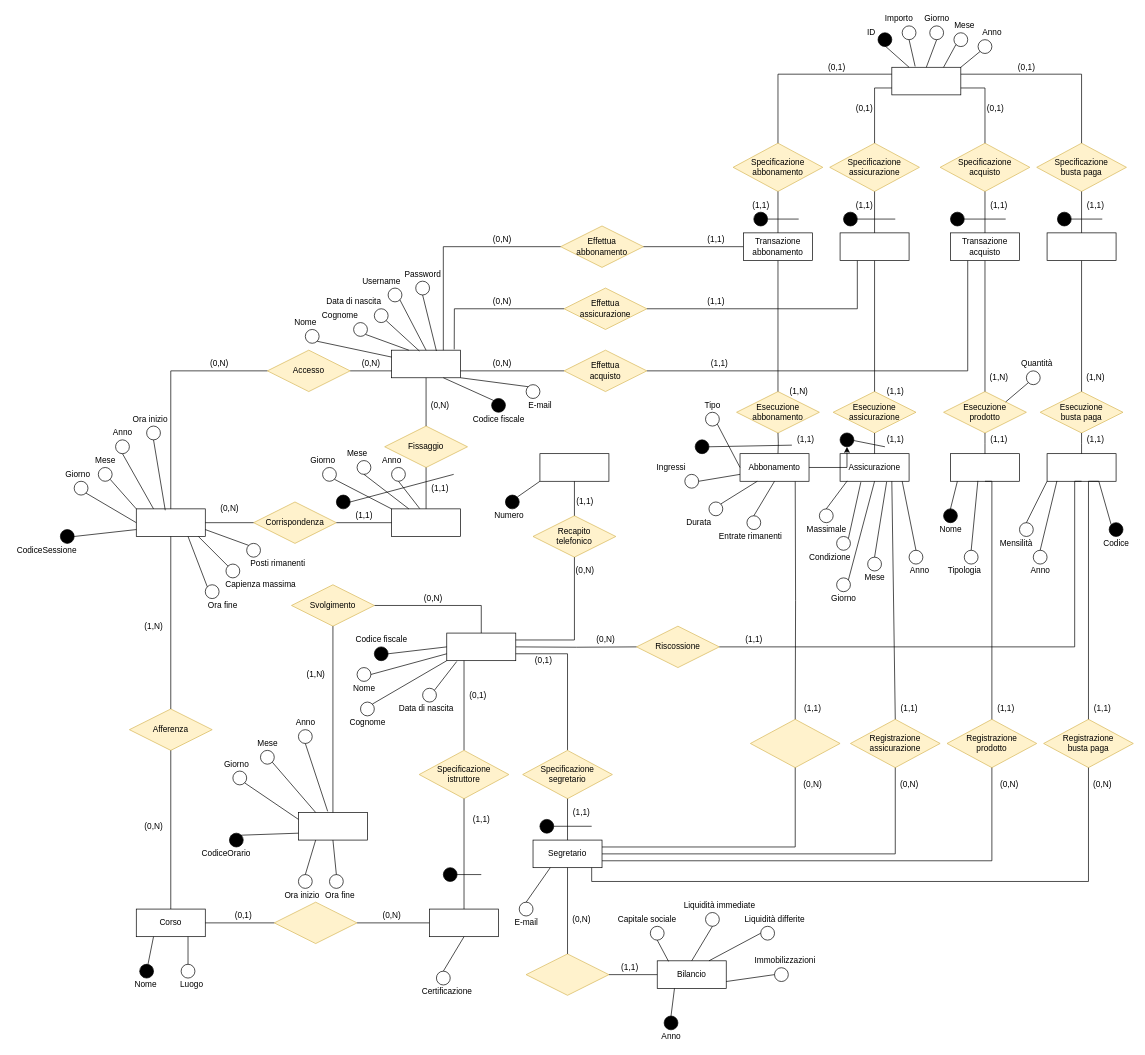
Some shapes in this 1145 by 1055 pixel diagram are drawn without their labels. Each missing label, with the centre of its shape:
"Busta paga" goes at [1081,467].
"Compilazione" goes at [567,974].
"Dipendente" goes at [481,646].
"Insegnamento" goes at [315,922].
"Iscritto" goes at [426,363].
"Istruttore" goes at [464,922].
"Orario dipendente" goes at [332,826].
"Prenotazione" goes at [426,522].
"Prodotto" goes at [984,467].
"Registrazione abbonamento" goes at [795,743].
"Sessione" goes at [170,522].
"Telefono" goes at [574,467].
"Transazione" goes at [926,81].
"Transazione assicurazione" goes at [874,246].
"Transazione busta paga" goes at [1081,246].
